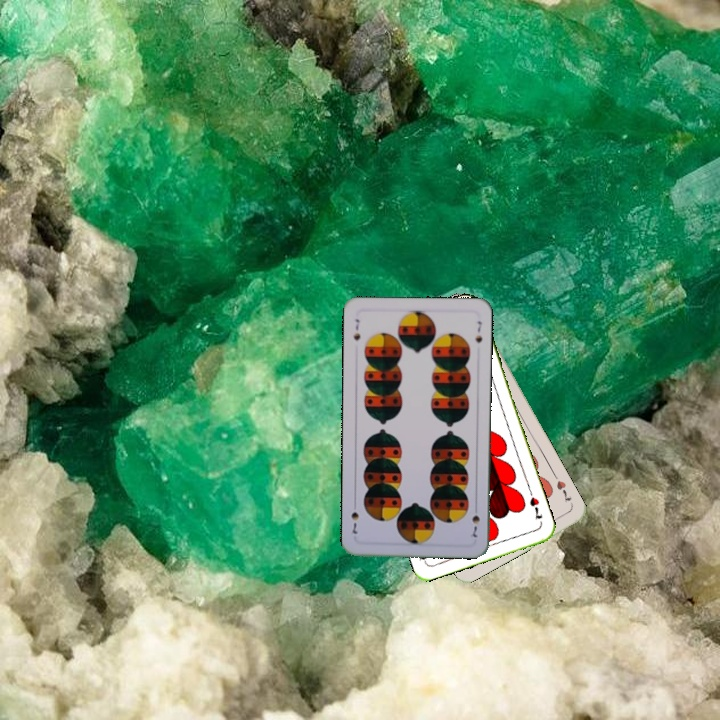H7: (552, 476, 574, 505), (526, 493, 545, 522)
S7: (468, 501, 482, 540), (350, 315, 363, 343)
